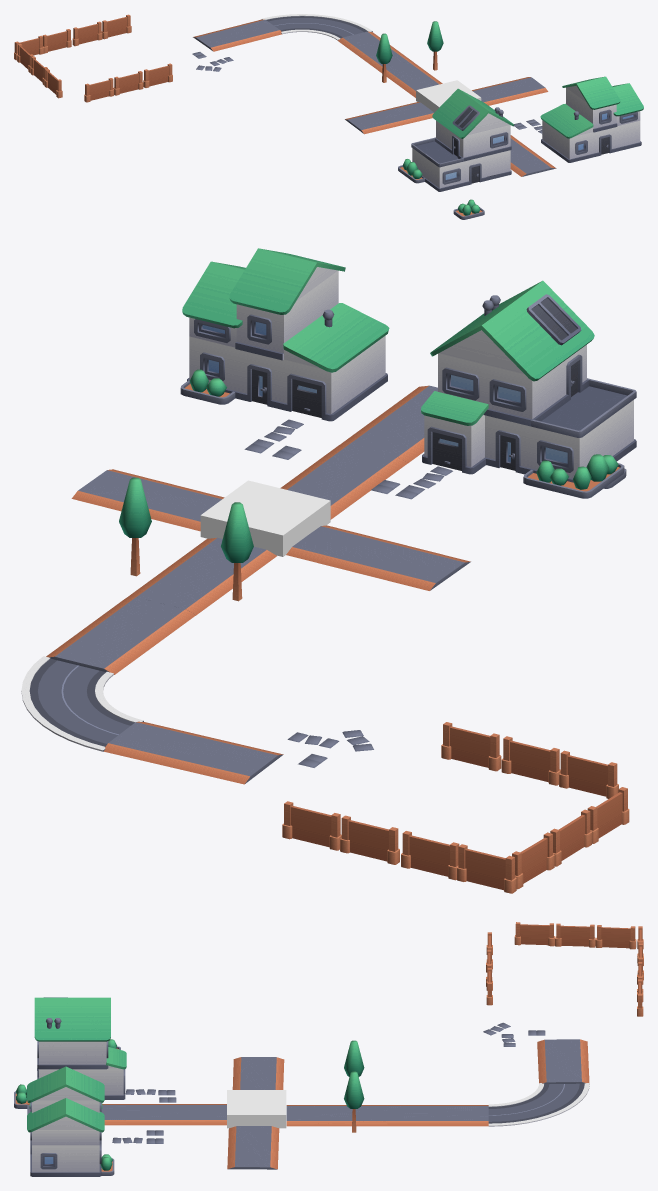
Rendered from custom-city.glb.
3 renders of one model, top to bottom at view 1: azimuth 30°, elevation 25°; view 2: azimuth 150°, elevation 25°; view 3: azimuth 270°, elevation 25°, orthographic. The views are drawn at different scales.
Parts seen in each view (by area): view 1: building-type-u, building-type-c, road-curve, path-long.008, path-long.004, path-long.005, path-long.007, path-long.006, path-long, tile-high, fence.002, fence.004 (+9 smaller); view 2: building-type-u, building-type-c, road-curve, path-long.007, path-long.008, tile-high, path-long.003, path-long.006, path-long.002, path-long.005, path-long, fence.004 (+12 smaller); view 3: building-type-c, building-type-u, road-curve, path-long.008, path-long.007, path-long.005, path-long.002, tile-high, path-long.006, path-long.003, fence.007, fence.008 (+5 smaller).
Boxes of the visible parts, x1,y1,x2,y2 form: building-type-u: (398,88,514,191); building-type-c: (540,76,643,162); road-curve: (261,14,372,40); path-long.008: (193,19,281,51); path-long.004: (345,103,432,134); path-long.005: (472,77,548,105); path-long.007: (337,31,412,70); path-long.006: (378,61,442,97); path-long: (510,138,556,176); tile-high: (416,80,481,112); fence.002: (84,78,114,102); fence.004: (72,21,102,46); building-type-u: (421,280,636,498); building-type-c: (180,248,389,421); road-curve: (21,656,143,751); path-long.007: (46,597,195,674); path-long.008: (104,721,283,784); tile-high: (200,480,330,556); path-long.003: (286,525,459,589); path-long.006: (126,537,276,615); path-long.002: (280,444,407,519); path-long.005: (71,469,224,531); path-long: (340,385,437,463); fence.004: (340,815,399,864); building-type-c: (27,1066,114,1176); building-type-u: (34,997,126,1099); road-curve: (488,1083,589,1126); path-long.008: (537,1039,589,1083); path-long.007: (387,1105,488,1126); path-long.005: (227,1126,279,1169); path-long.002: (126,1104,226,1125); tile-high: (227,1090,286,1128); path-long.006: (286,1105,387,1126); path-long.003: (240,1058,284,1089); fence.007: (595,925,636,949); fence.008: (555,923,595,947).
Size of what is drawn, in the model's own units: 6.61 by 1.54 by 7.44.
13 materials, 13 textured.
